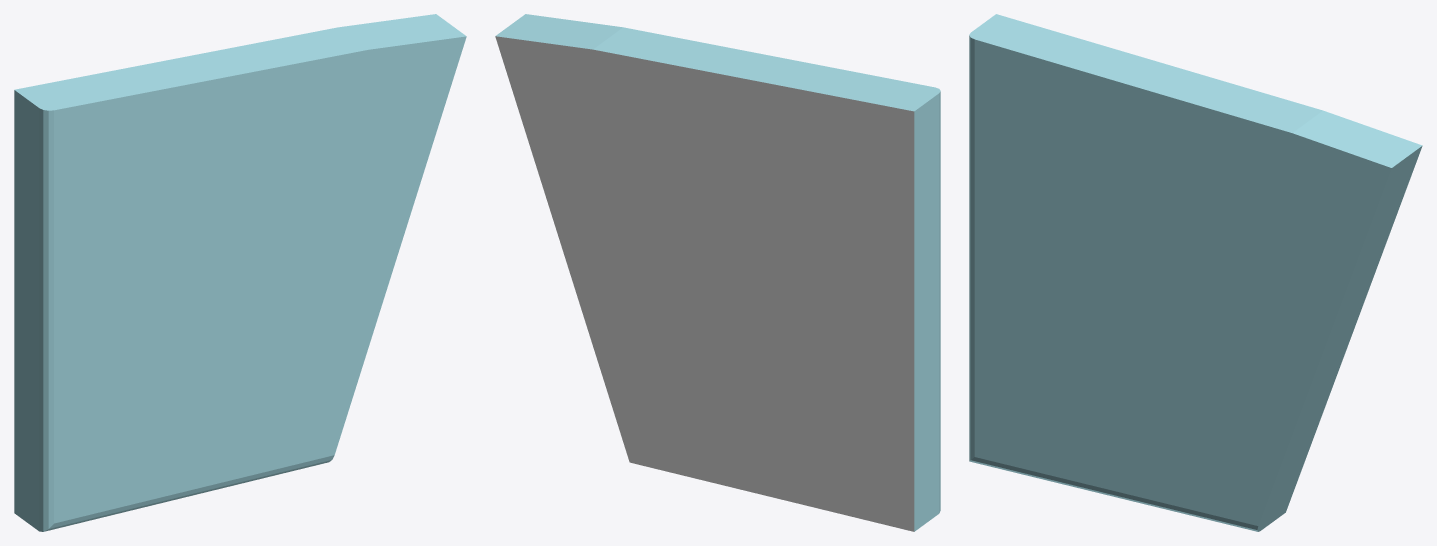
The model's file is chrome11.glb.
3 renders of one model, left to right at view 1: azimuth 30°, elevation 25°; view 2: azimuth 150°, elevation 25°; view 3: azimuth 330°, elevation 25°, orthographic.
Parts seen in each view (by area): view 1: Plane.012; view 2: Plane.012; view 3: Plane.012.
Part boxes in pixels (<box>): Plane.012: <box>14,14,466,531</box>; Plane.012: <box>495,14,940,531</box>; Plane.012: <box>969,14,1422,531</box>.
Bounding box in the file's own units: 39.79 × 38.15 × 5.
